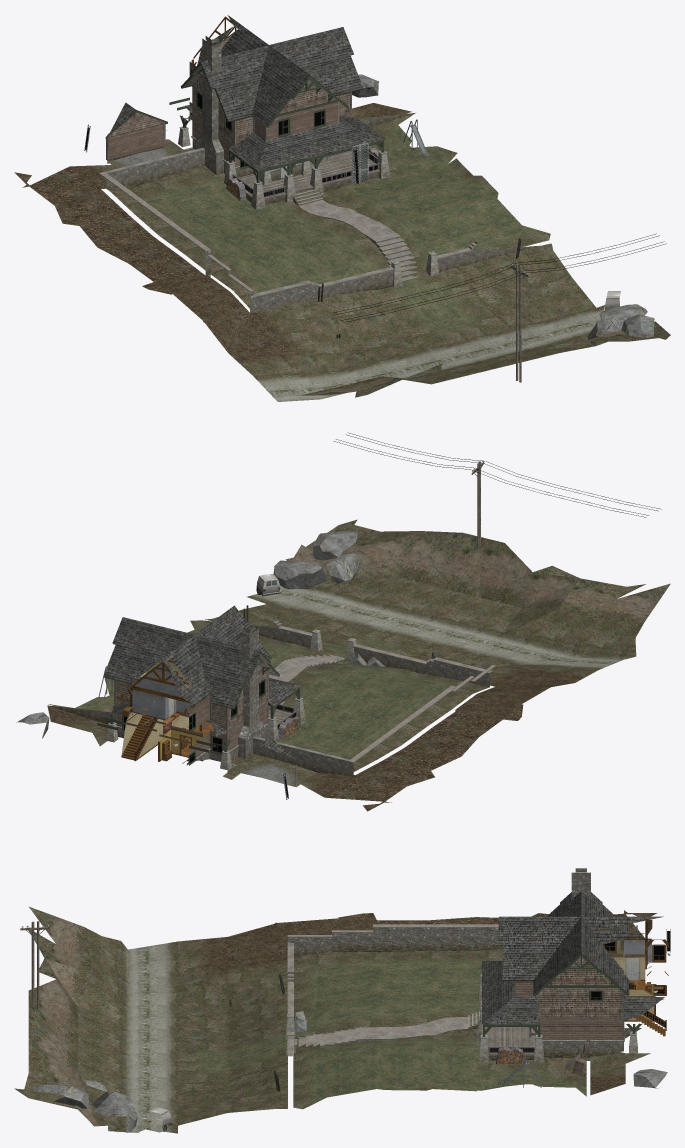
Rendered from vintage_house.glb.
The picture shows the model from 3 angles, top to bottom: view 1: azimuth 30°, elevation 25°; view 2: azimuth 150°, elevation 25°; view 3: azimuth 270°, elevation 25°; orthographic projection. The views are drawn at different scales.
Visible parts, largest first — view 1: Material3 (×20), Material2; view 2: Material3 (×22), Material2; view 3: Material3 (×20), Material2.
Part boxes in pixels (x1,y1,x2,y2): Material3 (×20): [70, 15, 670, 401]; Material2: [14, 103, 411, 352]; Material3 (×22): [16, 432, 670, 797]; Material2: [47, 675, 573, 811]; Material3 (×20): [14, 868, 667, 1133]; Material2: [227, 910, 657, 1095].
Bounding box in the file's own units: 1994 × 844 × 2968.
Materials: 82 (82 with a texture image).
